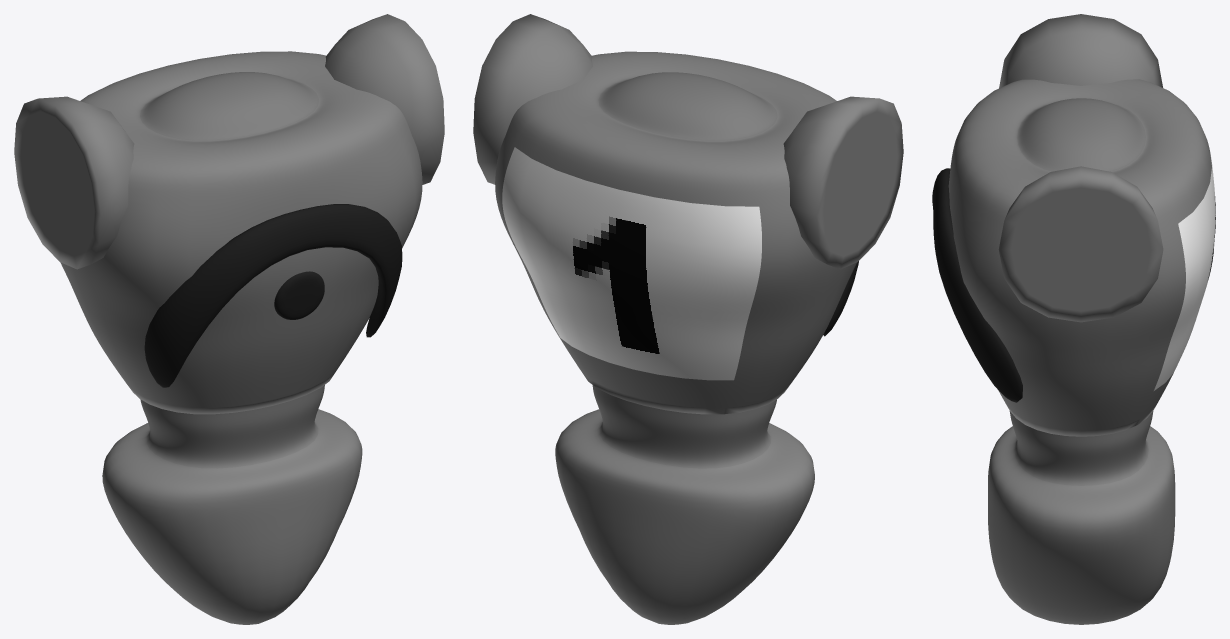
File: naobody2G.obj
The picture shows the model from 3 angles, left to right: view 1: azimuth 30°, elevation 25°; view 2: azimuth 150°, elevation 25°; view 3: azimuth 270°, elevation 25°; orthographic projection. The views are drawn at different scales.
Visible parts, largest first — view 1: Cube, Cube.001_Cube.002, Cube.003, Cube.002_Cube.001, Circle; view 2: Cube, Cube.001_Cube.002, Cube.002_Cube.001; view 3: Cube, Cube.002_Cube.001, Cube.001_Cube.002, Cube.003.
Part boxes in pixels (box(x1,y1,x2,y2)): Cube: box(60, 51, 422, 624); Cube.001_Cube.002: box(14, 96, 134, 269); Cube.003: box(144, 204, 402, 387); Cube.002_Cube.001: box(325, 14, 444, 184); Circle: box(274, 271, 324, 319); Cube: box(495, 51, 856, 624); Cube.001_Cube.002: box(783, 96, 903, 269); Cube.002_Cube.001: box(473, 14, 592, 184); Cube: box(948, 79, 1215, 624); Cube.002_Cube.001: box(998, 166, 1163, 322); Cube.001_Cube.002: box(999, 14, 1162, 88); Cube.003: box(932, 168, 1022, 402).
Size of the model in its own units: 1.53 by 2.31 by 1.13.
